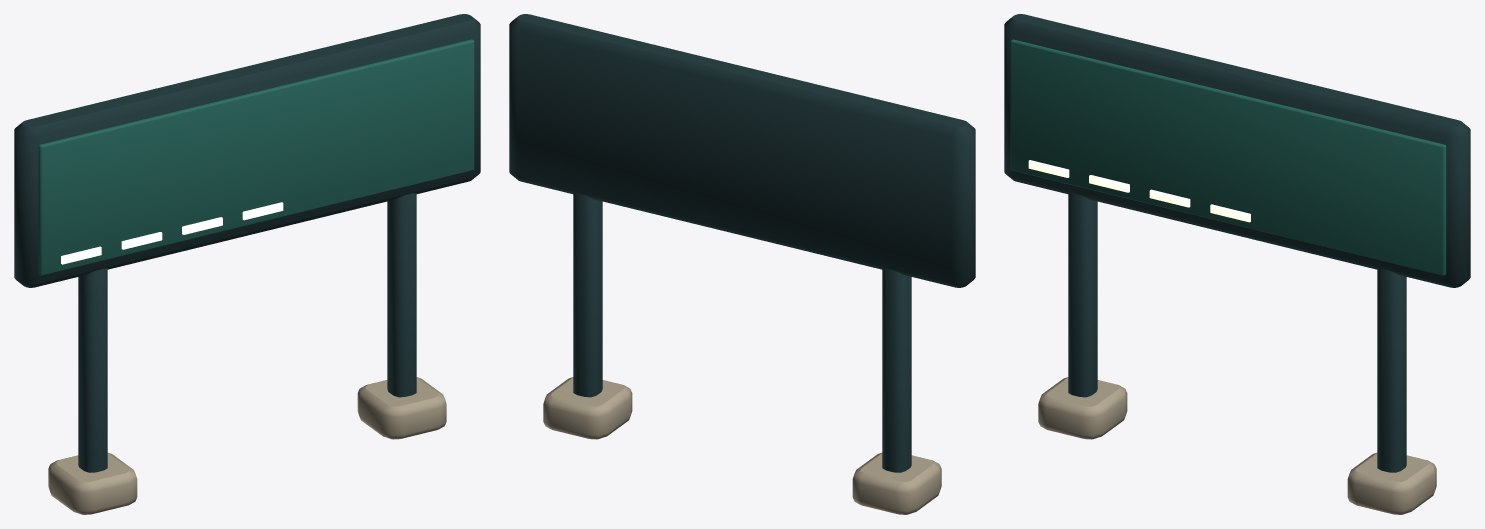
File: billboard.glb
The picture shows the model from 3 angles, left to right: view 1: azimuth 30°, elevation 25°; view 2: azimuth 150°, elevation 25°; view 3: azimuth 330°, elevation 25°; orthographic projection.
Parts seen in each view (by area): view 1: Billboard; view 2: Billboard; view 3: Billboard.
Part boxes in pixels (x1=…): Billboard: x1=14, y1=14, x2=480, y2=514; Billboard: x1=509, y1=14, x2=975, y2=514; Billboard: x1=1004, y1=14, x2=1470, y2=514.
Size of the model in its own units: 4.27 by 3.46 by 0.61.
